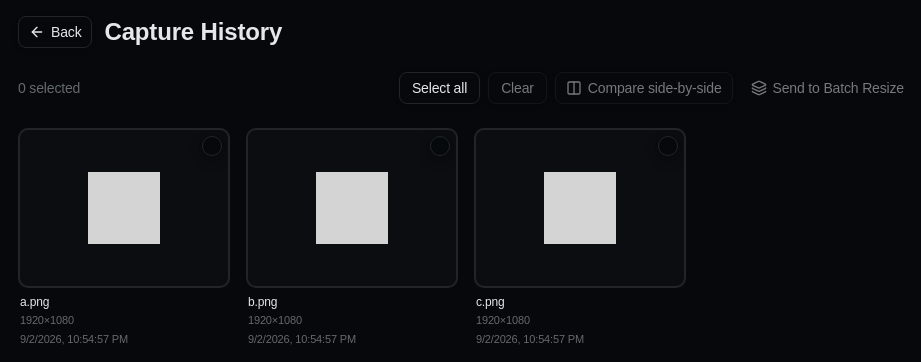
Test: CaptureHistoryGallery — compare side-by-side › is enabled only when exactly two captures are selected
Expected: the button "Compare side-by-side" is disabled, top-left (555, 72), bottom-right (733, 104)
Step 1. Click the checkbox named "Select a.png" → (212, 146), box top-left (202, 136), bottom-right (222, 156)
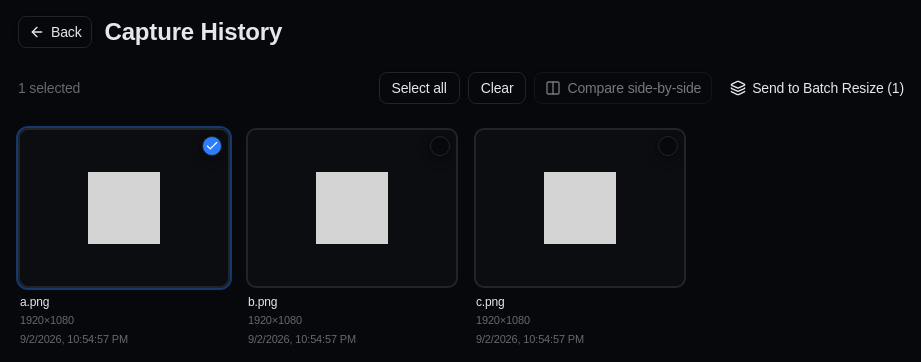
Expected: the button "Compare side-by-side" is disabled, top-left (534, 72), bottom-right (712, 104)
Step 2. Click the checkbox named "Select b.png" → (440, 146), box top-left (430, 136), bottom-right (450, 156)
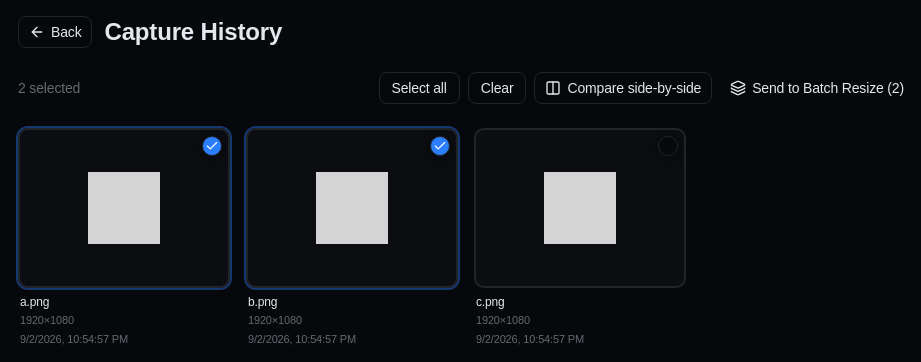
Now the button "Compare side-by-side" is enabled, box top-left (534, 72), bottom-right (712, 104)
Step 3. Click the checkbox named "Select c.png" → (668, 146), box top-left (658, 136), bottom-right (678, 156)
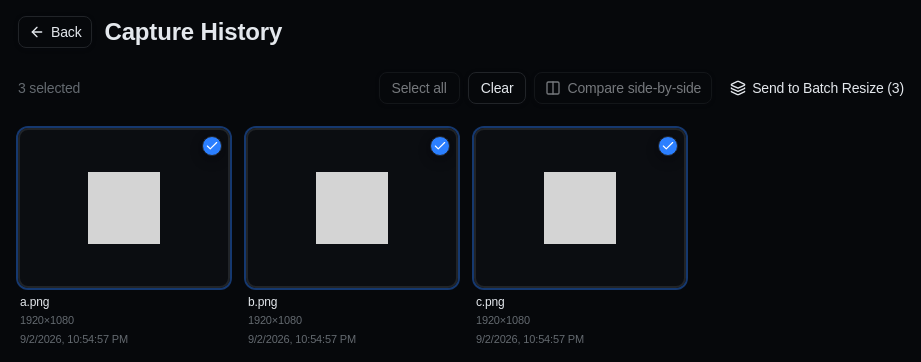
Now the button "Compare side-by-side" is disabled, box top-left (534, 72), bottom-right (712, 104)
